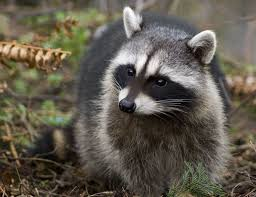raccoon: (74, 7, 230, 197)
